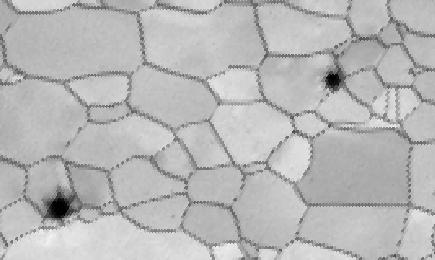good_void: (40, 184, 80, 226), (320, 62, 346, 96), (405, 65, 417, 77), (170, 213, 178, 220)
